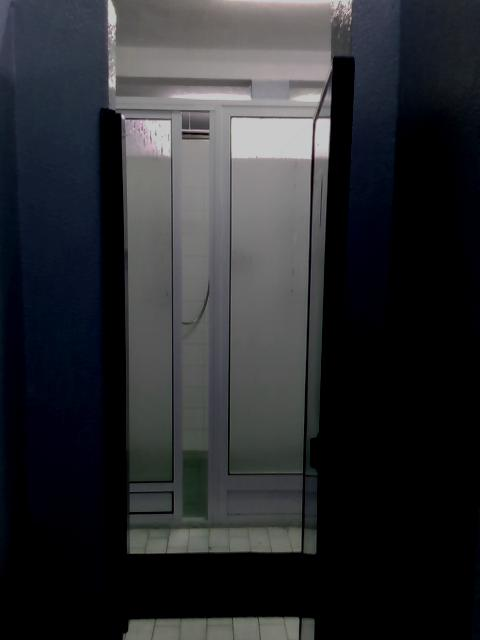open_door: (104, 53, 354, 639)
